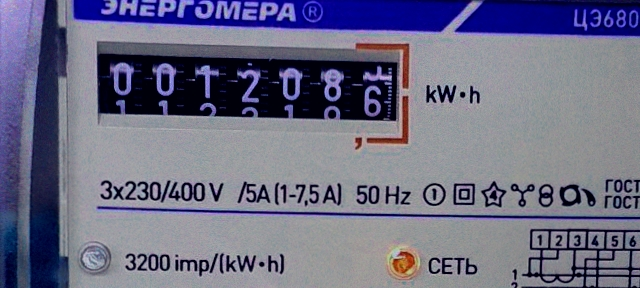0: (109, 57, 135, 96), (153, 59, 177, 97), (278, 64, 302, 100)
1: (195, 61, 216, 100)
2: (237, 66, 263, 104)
6: (360, 81, 383, 117)
8: (319, 65, 344, 102)
screen: (89, 33, 418, 149)
